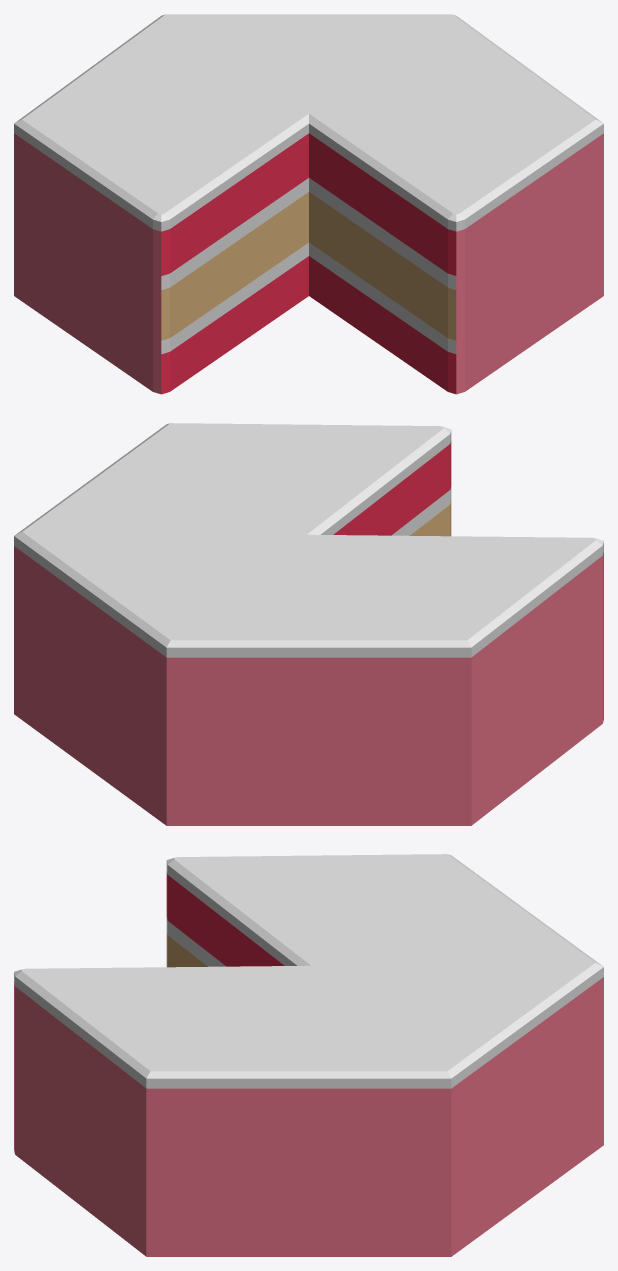
Rendered from C_Cake_2.fbx.
3 renders of one model, top to bottom at view 1: azimuth 30°, elevation 25°; view 2: azimuth 150°, elevation 25°; view 3: azimuth 270°, elevation 25°, orthographic. The views are drawn at different scales.
Parts seen in each view (by area): view 1: C_Cake_2; view 2: C_Cake_2; view 3: C_Cake_2.
Boxes of the visible parts, <box> form: C_Cake_2: <box>14,14,603,394</box>; C_Cake_2: <box>14,423,603,825</box>; C_Cake_2: <box>14,854,603,1256</box>.
Size of the model in its own units: 151 by 168 by 57.43.
